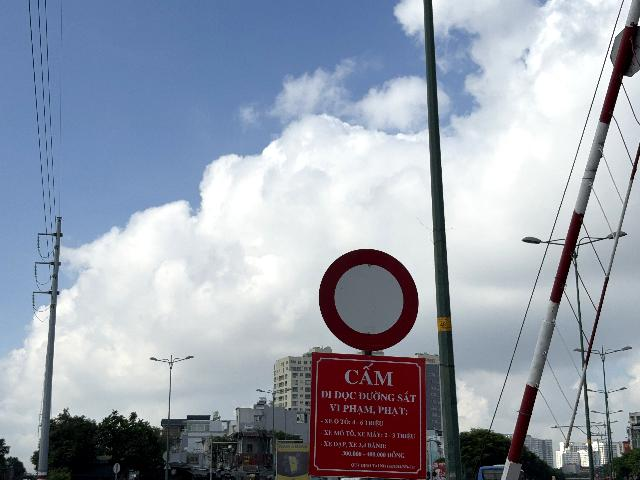duong-cam: (318, 249, 419, 352)
